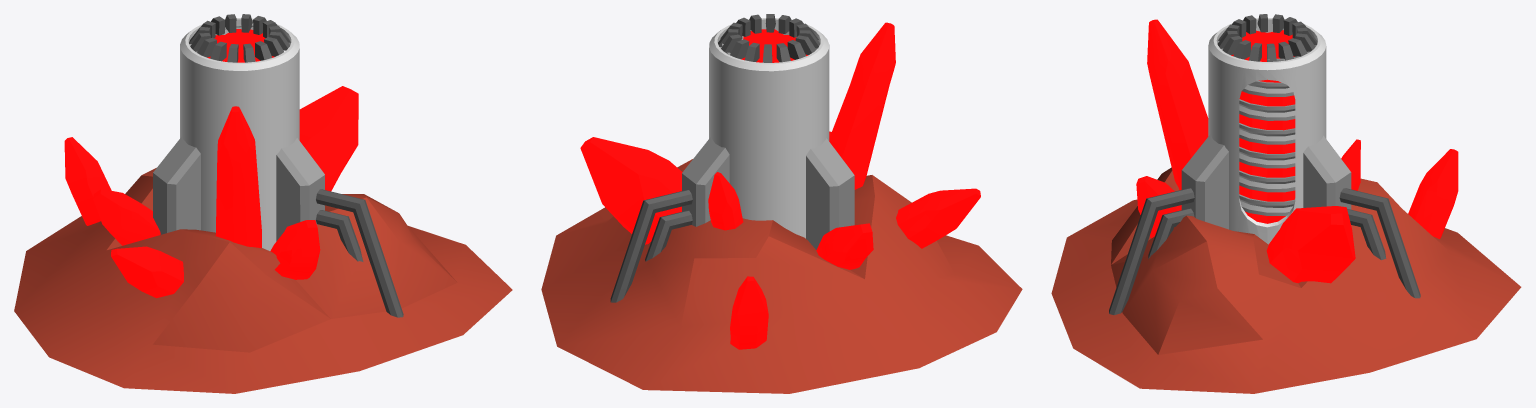
Rendered from SM_Reactor.fbx.
The picture shows the model from 3 angles, left to right: view 1: azimuth 30°, elevation 25°; view 2: azimuth 150°, elevation 25°; view 3: azimuth 270°, elevation 25°; orthographic projection. The views are drawn at different scales.
Visible parts, largest first — view 1: Reactor; view 2: Reactor; view 3: Reactor.
Part boxes in pixels (bbox=[...]): Reactor: bbox=[14, 14, 512, 393]; Reactor: bbox=[541, 14, 1022, 393]; Reactor: bbox=[1051, 14, 1521, 393].
Bounding box in the file's own units: 51.35 × 30.17 × 49.65.
3 materials, 1 textured.
